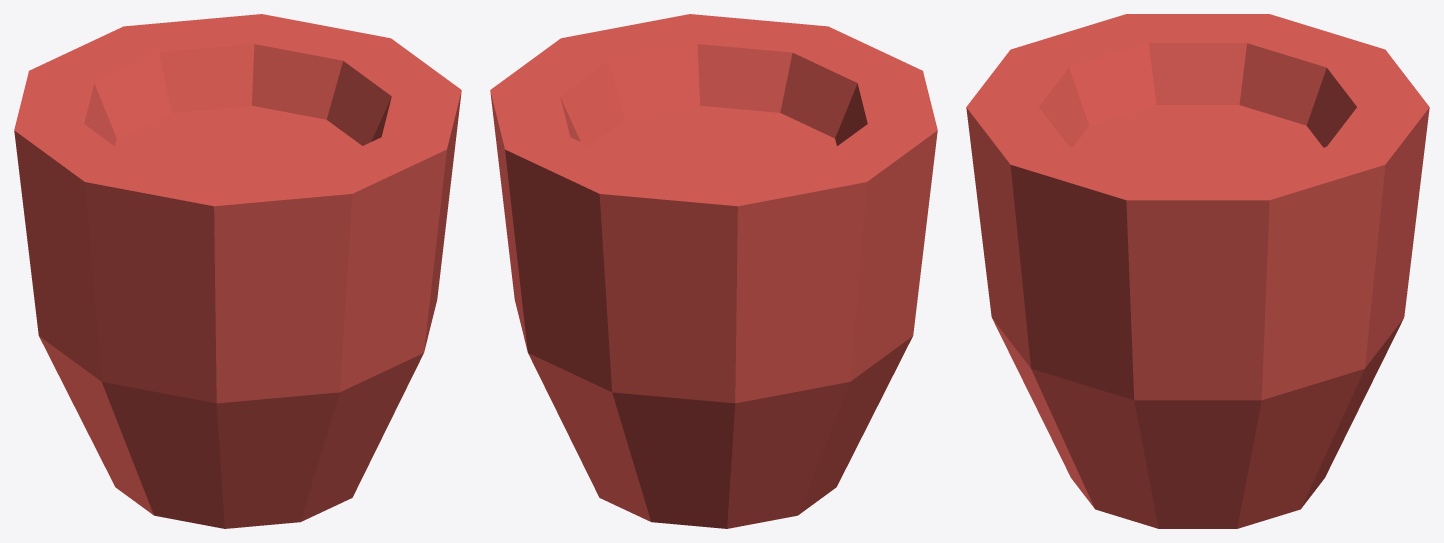
File: flower pot.fbx
The picture shows the model from 3 angles, left to right: view 1: azimuth 30°, elevation 25°; view 2: azimuth 150°, elevation 25°; view 3: azimuth 270°, elevation 25°; orthographic projection.
Parts seen in each view (by area): view 1: Cylinder; view 2: Cylinder; view 3: Cylinder.
Boxes of the visible parts, bbox=[...] form: Cylinder: bbox=[14, 14, 461, 528]; Cylinder: bbox=[490, 14, 937, 528]; Cylinder: bbox=[966, 14, 1429, 528].
Size of the model in its own units: 190 by 177 by 200.
